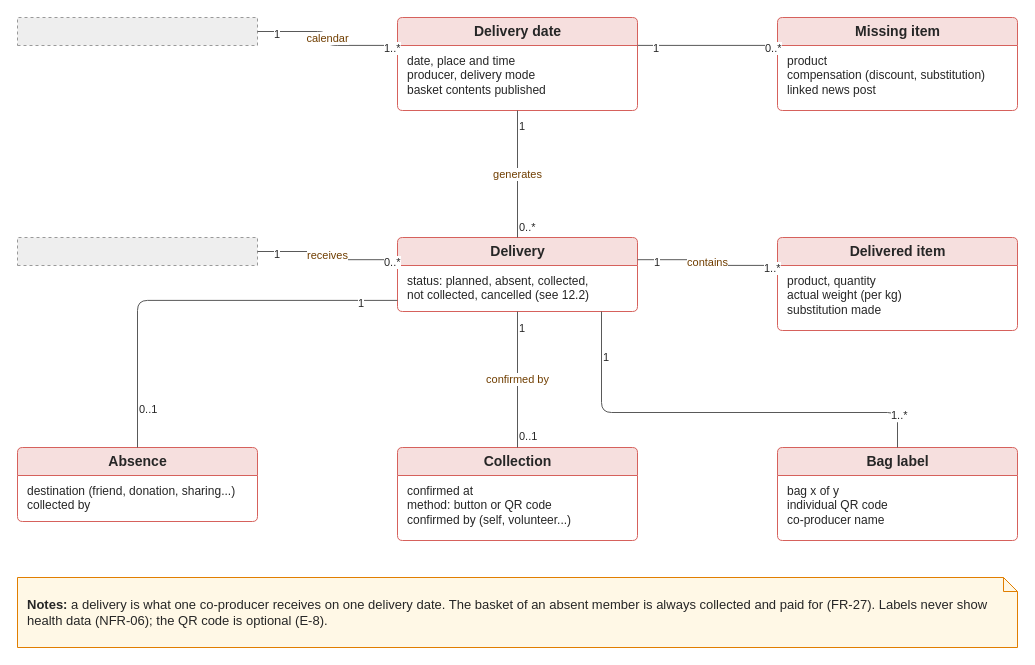
The diagram is 1035 pixels wide and 665 high, and some of its shapes have lost their labels. The centre of each missing label's shape, as x and y in pixels:
"Cycle" goes at [137,31].
"Membership (co-producer)" goes at [137,251].
